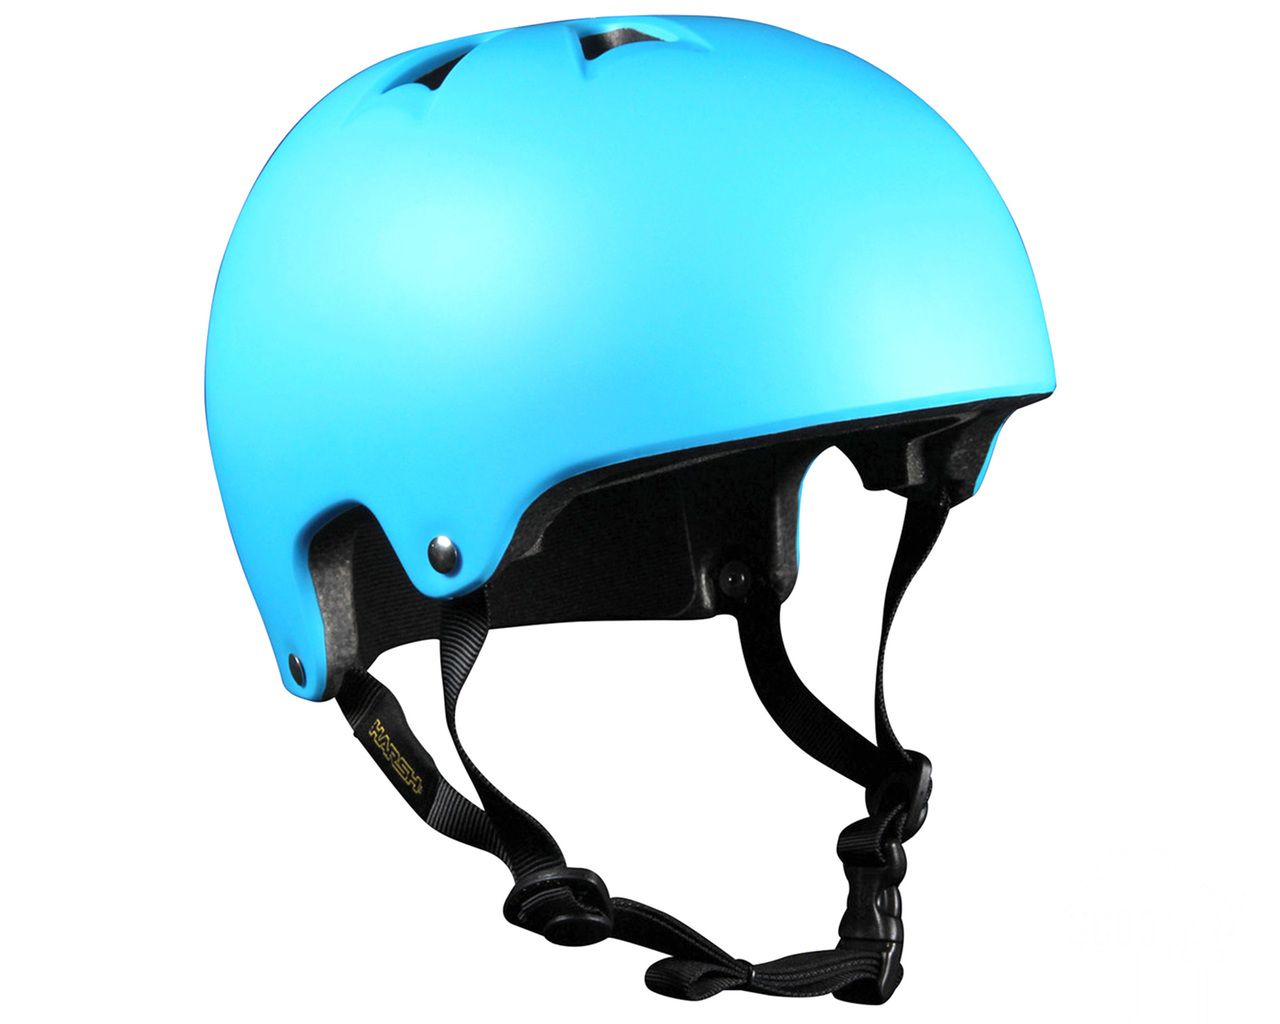helmet: (204, 16, 1165, 931)
